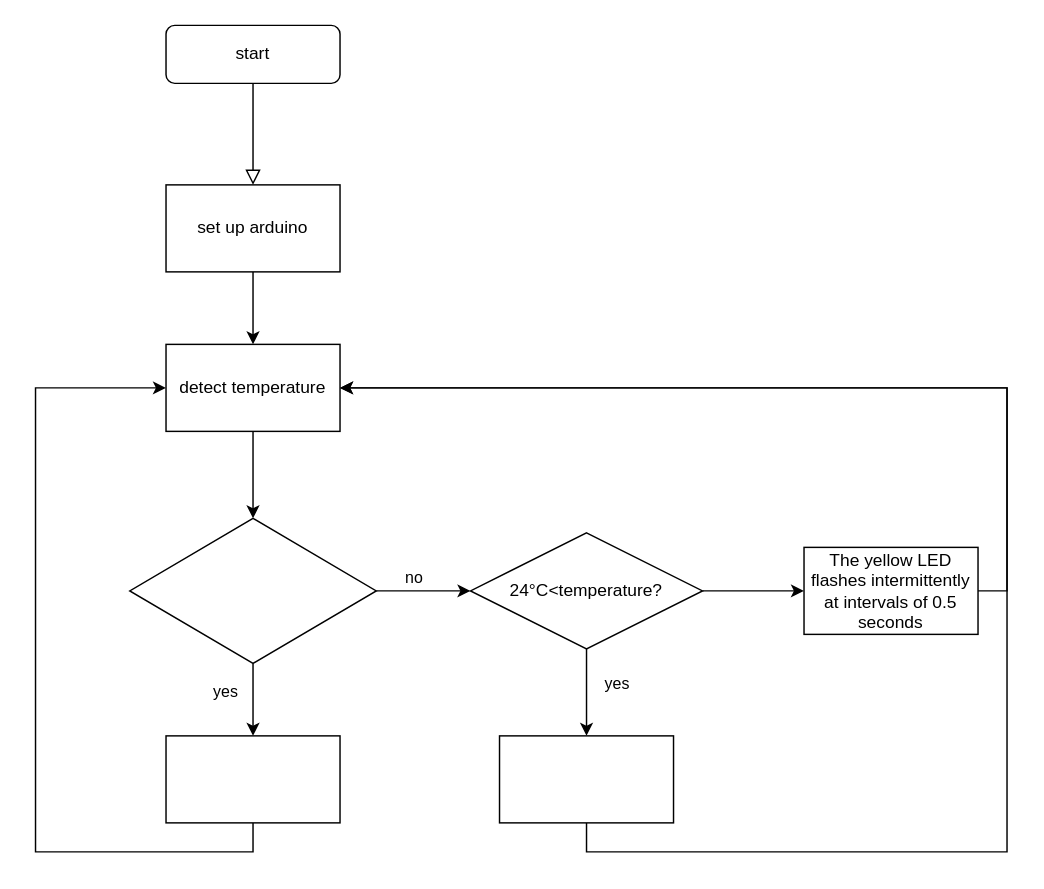
Some shapes in this 1044 by 889 pixel diagram are drawn without their labels. The centre of each missing label's shape, as x and y in pixels:
"18°C≤temprature≤24°C?" belongs at [252,590].
"green LED light" belongs at [252,778].
"The red LED flashes intermittently at intervals of 0.25 seconds" belongs at [586,778].
